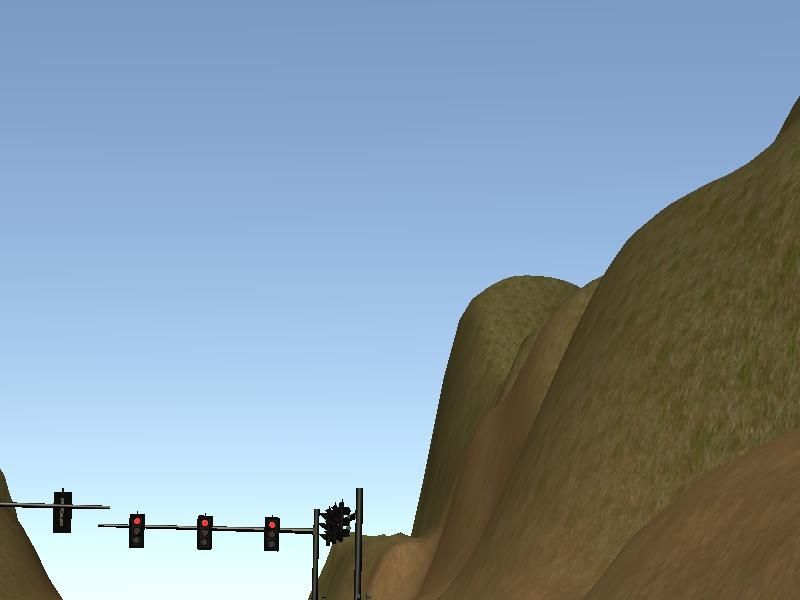red: (127, 511, 147, 551), (195, 515, 214, 552), (263, 518, 278, 552)
